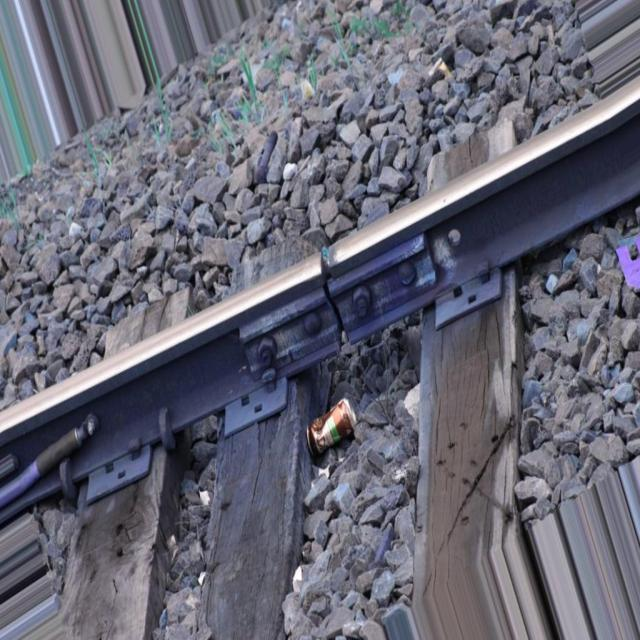Good Joint: (209, 208, 456, 391)
Missing Dogscrew: (453, 287, 461, 297), (106, 461, 113, 472)
